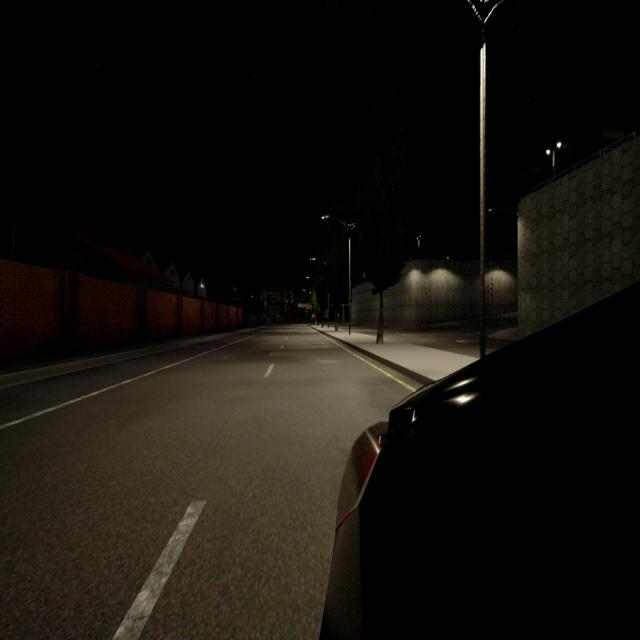Vehicle: (326, 284, 640, 636)
